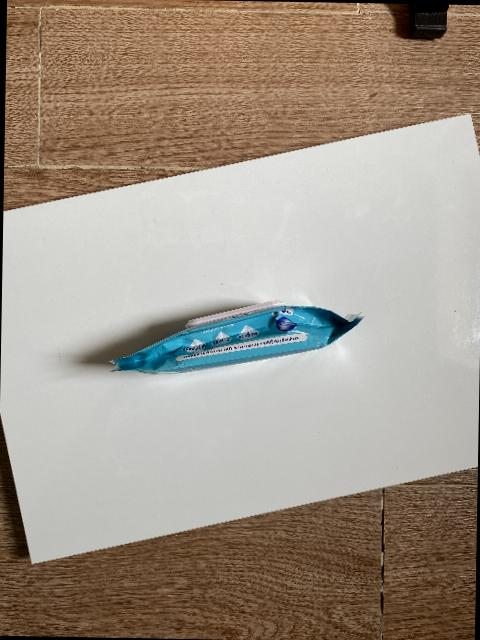Let-green_alcohol_wipes: (105, 298, 366, 373)
